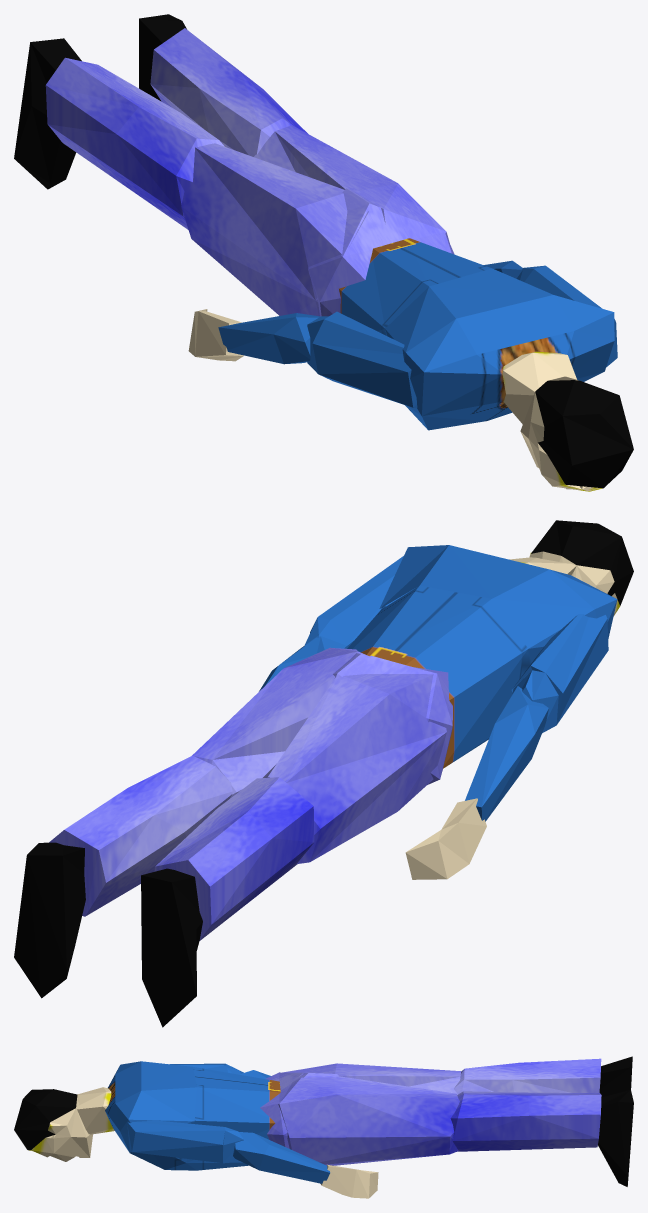
The model's file is officerboned_wtf.obj.
3 renders of one model, top to bottom at view 1: azimuth 30°, elevation 25°; view 2: azimuth 150°, elevation 25°; view 3: azimuth 270°, elevation 25°, orthographic. The views are drawn at different scales.
Visible parts, largest first — view 1: group5, group2, group1, group4, group6, group3; view 2: group5, group2, group6, group1, group3, group4; view 3: group5, group2, group1, group3, group6, group4.
Boxes of the visible parts, x1=… form: group5: x1=45, y1=28, x2=454, y2=316; group2: x1=218, y1=260, x2=617, y2=415; group1: x1=339, y1=238, x2=614, y2=430; group4: x1=535, y1=380, x2=633, y2=488; group6: x1=14, y1=14, x2=186, y2=189; group3: x1=188, y1=309, x2=602, y2=491; group5: x1=49, y1=647, x2=452, y2=940; group2: x1=259, y1=545, x2=617, y2=821; group6: x1=14, y1=842, x2=202, y2=1027; group1: x1=347, y1=585, x2=543, y2=768; group3: x1=405, y1=551, x2=620, y2=879; group4: x1=531, y1=520, x2=633, y2=605; group5: x1=260, y1=1058, x2=601, y2=1165; group2: x1=115, y1=1061, x2=330, y2=1183; group1: x1=105, y1=1067, x2=280, y2=1170; group3: x1=29, y1=1087, x2=378, y2=1198; group6: x1=598, y1=1056, x2=633, y2=1186; group4: x1=14, y1=1089, x2=77, y2=1150.
Bounding box in the file's own units: 200 × 116 × 660.
